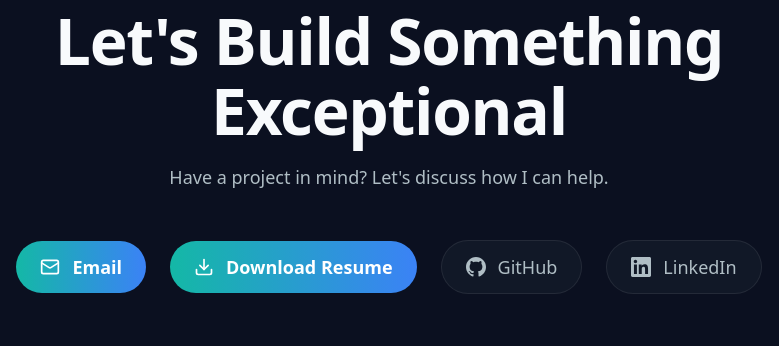
Scenario: ContactSection › shows error message when PDF download fails
Click the button labelled "Download Resume": coordinates (293, 267) [170,241,416,293]
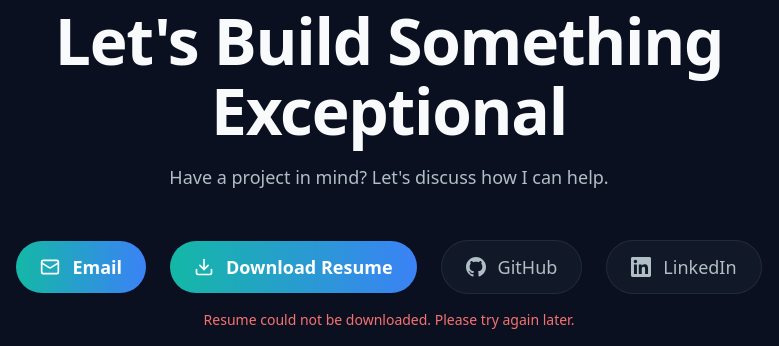
expect the message reads "Resume could not be downloaded. Please try again later.": met, box [204,310,574,329]
